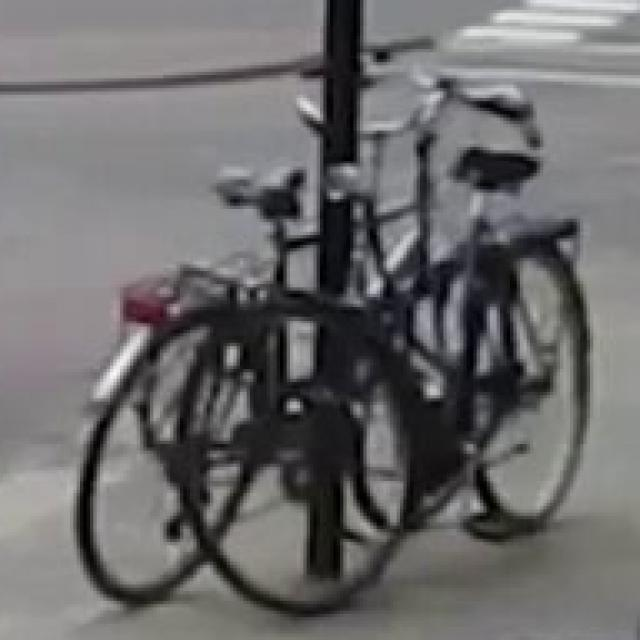car: (65, 43, 618, 632)
